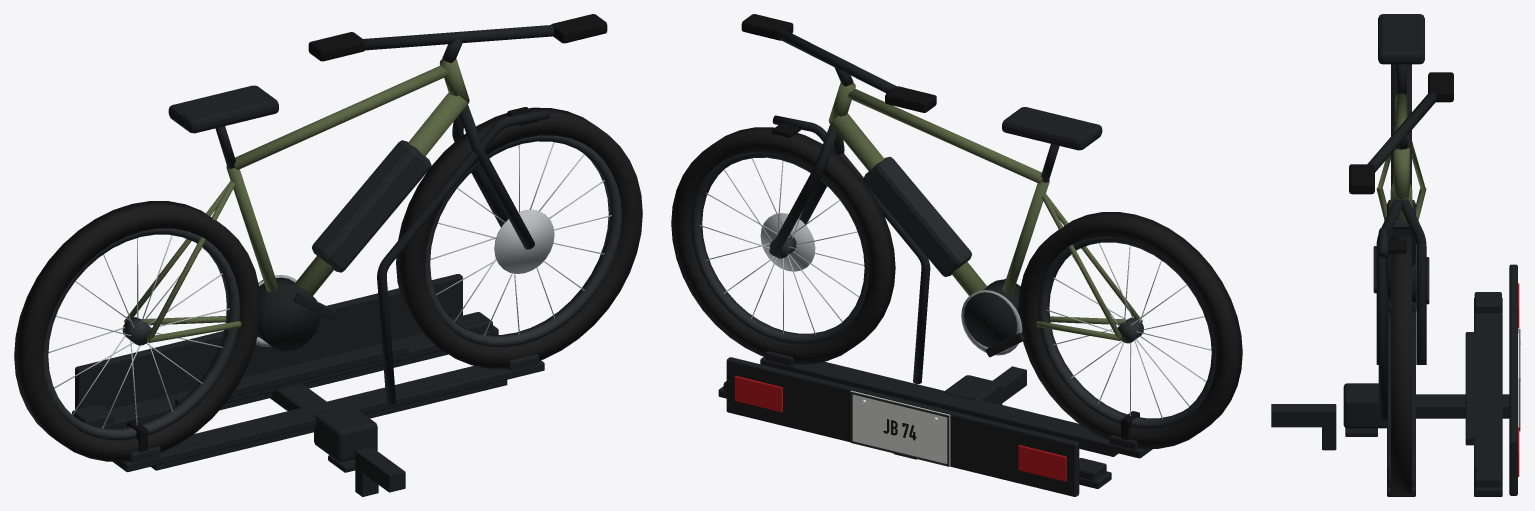
The model's file is carrier_thule_easyfold3.glb.
3 views of the same model, side by side, from view 1: azimuth 30°, elevation 25°; view 2: azimuth 150°, elevation 25°; view 3: azimuth 270°, elevation 25° (orthographic). The views are drawn at different scales.
Visible parts, largest first — view 1: bike0RTyre.002, bike0FTyre.002, board.002, tray0.002, bike0Battery.001, bike0FRim.002, bike0RRim.002, arm0.002, tray1.002, bike0Saddle.002, bike0Motor.001, bike0Top.002 (+16 smaller); view 2: bike0RTyre.002, bike0FTyre.002, board.002, tray0.002, bike0Battery.001, bike0FRim.002, plate.049, bike0RRim.002, bike0Saddle.002, bike0Motor.001, bike0Top.002, arm0.002 (+15 smaller); view 3: bike0FTyre.002, tray1.002, bike0Saddle.002, board.002, bike0Fork-1.002, clamp, bike0Fork1.002, spine.004, tongue, tray0.002, bike0Bar.002, armFolded1.002 (+12 smaller).
Boxes of the visible parts, left/top/right/bottom form: bike0RTyre.002: left=14, top=201, right=260, bottom=461; bike0FTyre.002: left=396, top=107, right=642, bottom=368; board.002: left=75, top=274, right=462, bottom=409; tray0.002: left=113, top=360, right=544, bottom=472; bike0Battery.001: left=312, top=140, right=431, bottom=272; bike0FRim.002: left=425, top=135, right=621, bottom=347; bike0RRim.002: left=43, top=228, right=240, bottom=440; arm0.002: left=377, top=109, right=550, bottom=404; tray1.002: left=99, top=325, right=498, bottom=427; bike0Saddle.002: left=168, top=85, right=278, bottom=133; bike0Motor.001: left=257, top=277, right=320, bottom=351; bike0Top.002: left=234, top=65, right=447, bottom=169; bike0RTyre.002: left=1018, top=212, right=1242, bottom=448; bike0FTyre.002: left=671, top=127, right=895, bottom=364; board.002: left=726, top=357, right=1079, bottom=496; tray0.002: left=760, top=357, right=1152, bottom=458; bike0Battery.001: left=863, top=156, right=971, bottom=276; bike0FRim.002: left=690, top=152, right=868, bottom=344; plate.049: left=850, top=390, right=950, bottom=466; bike0RRim.002: left=1037, top=237, right=1215, bottom=429; bike0Saddle.002: left=1002, top=107, right=1102, bottom=150; bike0Motor.001: left=964, top=279, right=1020, bottom=347; bike0Top.002: left=848, top=89, right=1042, bottom=183; arm0.002: left=772, top=115, right=930, bottom=383; bike0FTyre.002: left=1391, top=236, right=1411, bottom=493; tray1.002: left=1474, top=298, right=1502, bottom=496; bike0Saddle.002: left=1378, top=14, right=1424, bottom=64; board.002: left=1509, top=264, right=1517, bottom=495; bike0Fork-1.002: left=1400, top=198, right=1426, bottom=364; clamp: left=1343, top=383, right=1390, bottom=428; bike0Fork1.002: left=1376, top=198, right=1402, bottom=364; spine.004: left=1416, top=394, right=1509, bottom=418; tongue: left=1271, top=404, right=1328, bottom=427; tray0.002: left=1387, top=302, right=1415, bottom=496; bike0Bar.002: left=1367, top=92, right=1437, bottom=172; armFolded1.002: left=1465, top=332, right=1474, bottom=445.
Bounding box in the file's own units: 1.86 × 1.15 × 0.6895.
